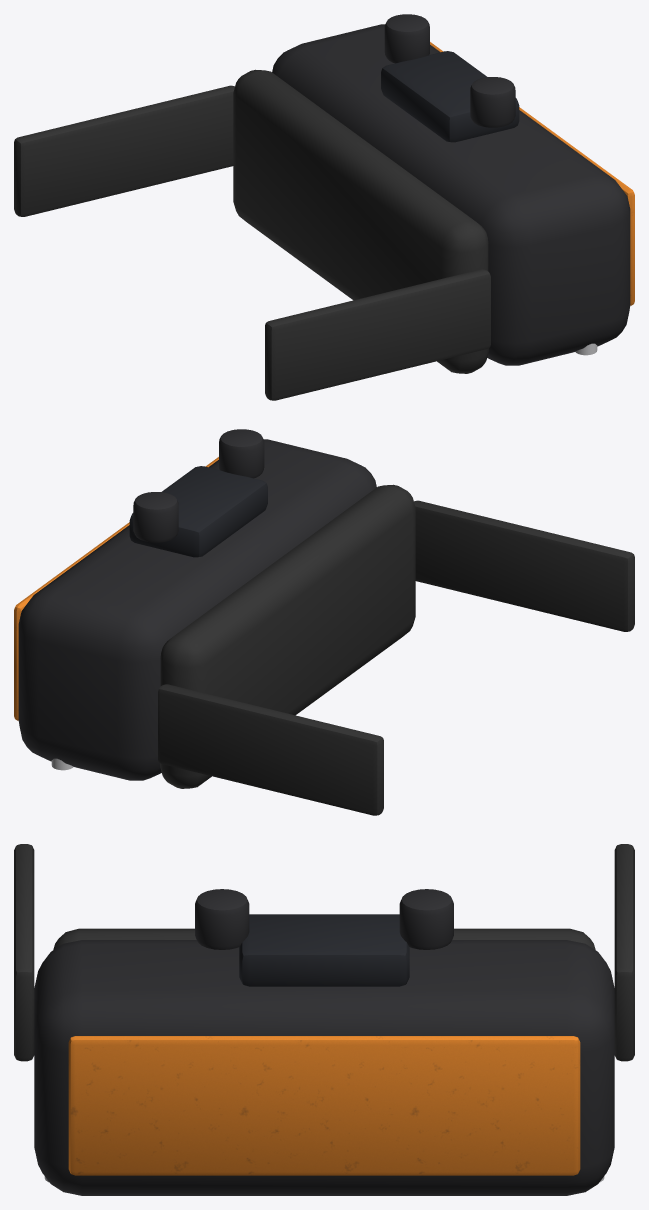
File: SM_FPV_Goggles.fbx
3 renders of one model, top to bottom at view 1: azimuth 30°, elevation 25°; view 2: azimuth 150°, elevation 25°; view 3: azimuth 270°, elevation 25°, orthographic. The views are drawn at different scales.
Parts seen in each view (by area): view 1: SM_FPV_Goggles; view 2: SM_FPV_Goggles; view 3: SM_FPV_Goggles.
Boxes of the visible parts, left/top/right/bottom form: SM_FPV_Goggles: left=14, top=14, right=634, bottom=400; SM_FPV_Goggles: left=14, top=429, right=634, bottom=815; SM_FPV_Goggles: left=14, top=844, right=634, bottom=1195.
Bounding box in the file's own units: 0.1575 × 0.0875 × 0.182.
